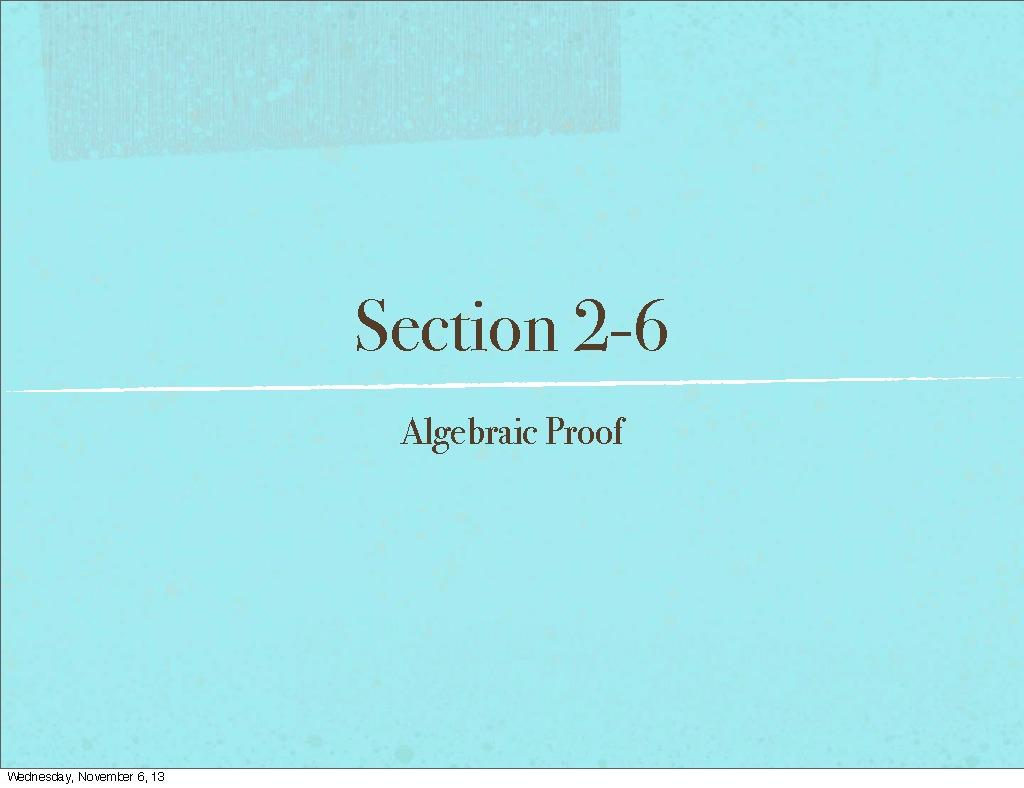title: (351, 269, 708, 387)
